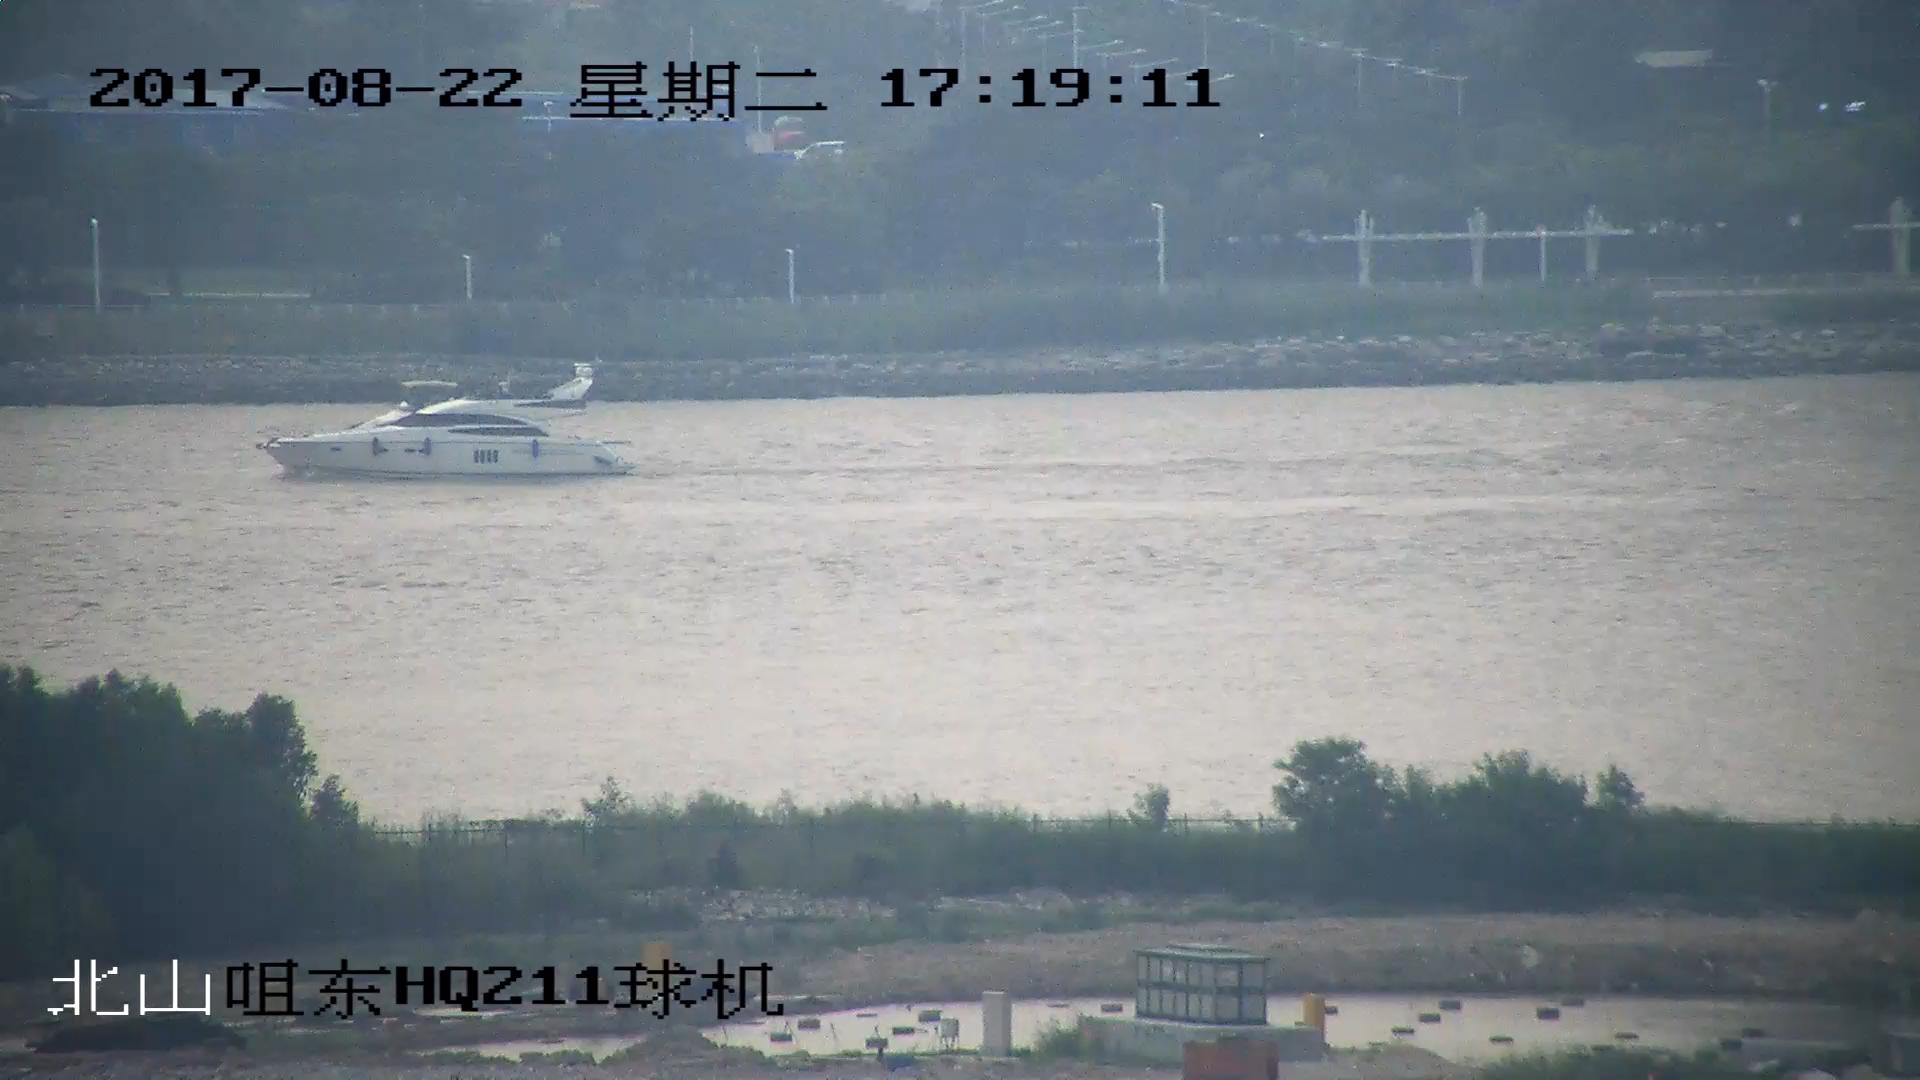passenger ship: (256, 361, 630, 481)
